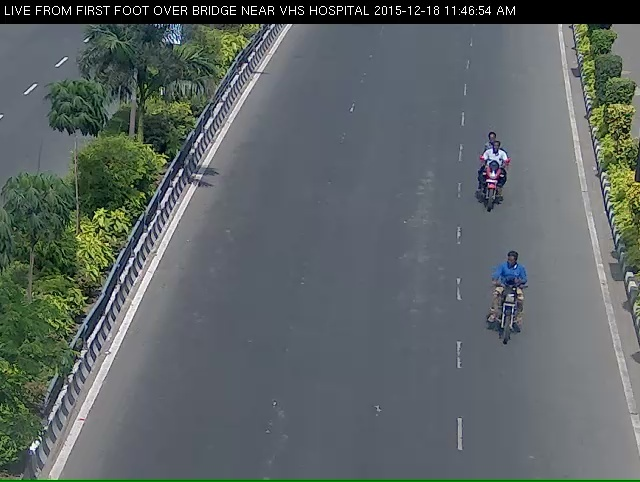Person: (487, 274, 534, 379), (472, 142, 508, 226)
